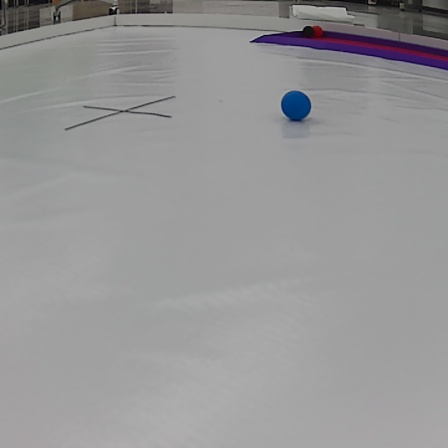black: (302, 26, 314, 39)
blue: (281, 88, 314, 120)
red: (310, 25, 325, 39)
red_aim: (251, 23, 448, 70)
